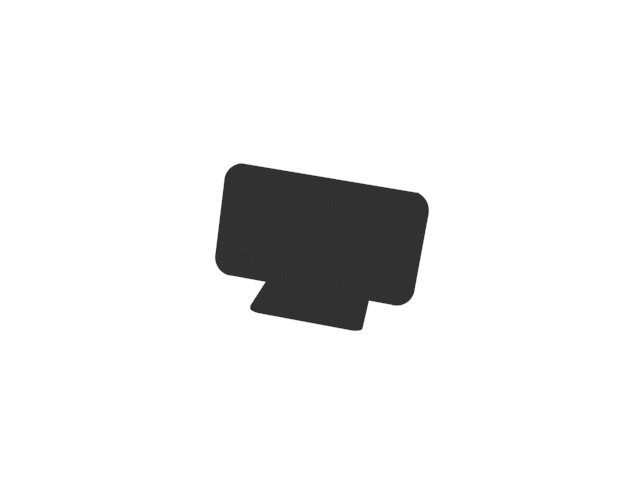monitor: (209, 161, 432, 336)
